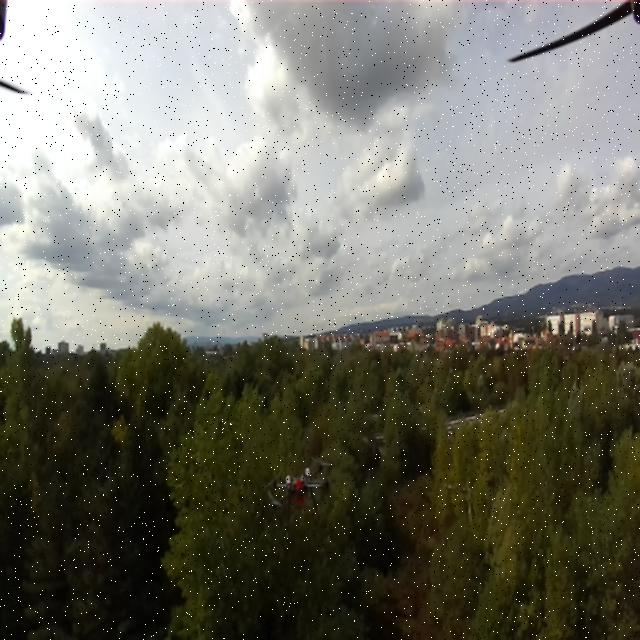UAV: (265, 452, 335, 540)
